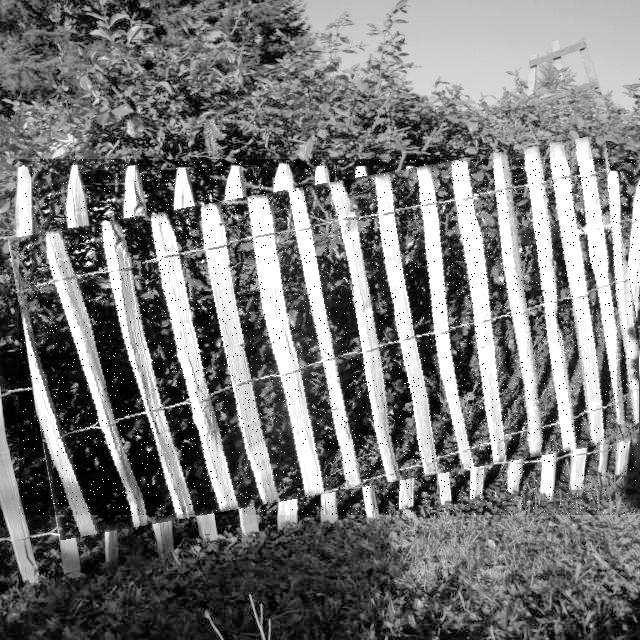fences: (19, 159, 640, 515)
